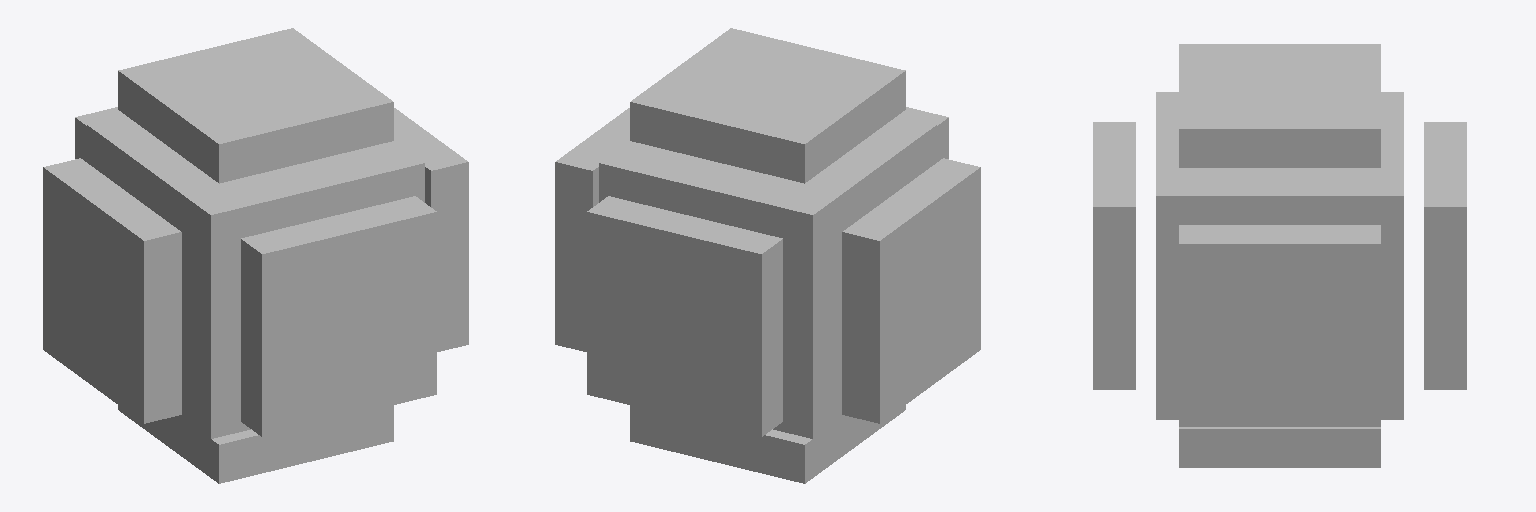
Rendered from pipe_rim.obj.
3 views of the same model, side by side, from view 1: azimuth 30°, elevation 25°; view 2: azimuth 150°, elevation 25°; view 3: azimuth 270°, elevation 25° (orthographic).
Visible parts, largest first — view 1: south, casing, west, up, down, east, north; view 2: north, casing, west, up, down, east, south; view 3: east, casing, up, north, south, down.
Part boxes in pixels (bbox=[...]): south: bbox=[241, 196, 436, 436]; casing: bbox=[87, 116, 424, 438]; west: bbox=[43, 158, 181, 423]; up: bbox=[118, 28, 393, 183]; down: bbox=[118, 405, 393, 483]; east: bbox=[394, 108, 468, 351]; north: bbox=[75, 107, 125, 161]; north: bbox=[587, 196, 782, 436]; casing: bbox=[599, 116, 936, 438]; west: bbox=[842, 158, 980, 423]; up: bbox=[630, 28, 905, 183]; down: bbox=[630, 405, 905, 483]; east: bbox=[555, 108, 629, 351]; south: bbox=[898, 107, 948, 161]; east: bbox=[1179, 225, 1380, 426]; casing: bbox=[1156, 92, 1403, 419]; up: bbox=[1179, 44, 1380, 167]; north: bbox=[1424, 122, 1466, 389]; south: bbox=[1093, 122, 1135, 389]; down: bbox=[1179, 427, 1380, 467].
Size of the model in its own units: 1.14 by 1.14 by 1.14.